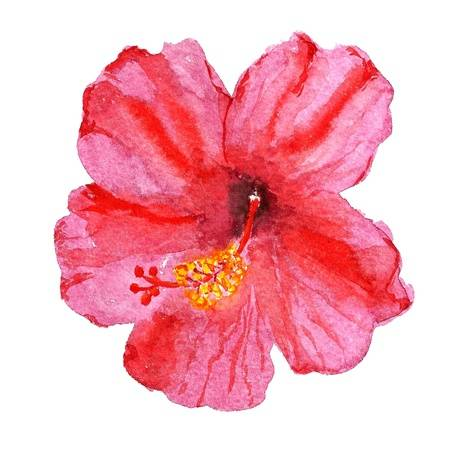Hibiscus: (56, 34, 425, 419)
